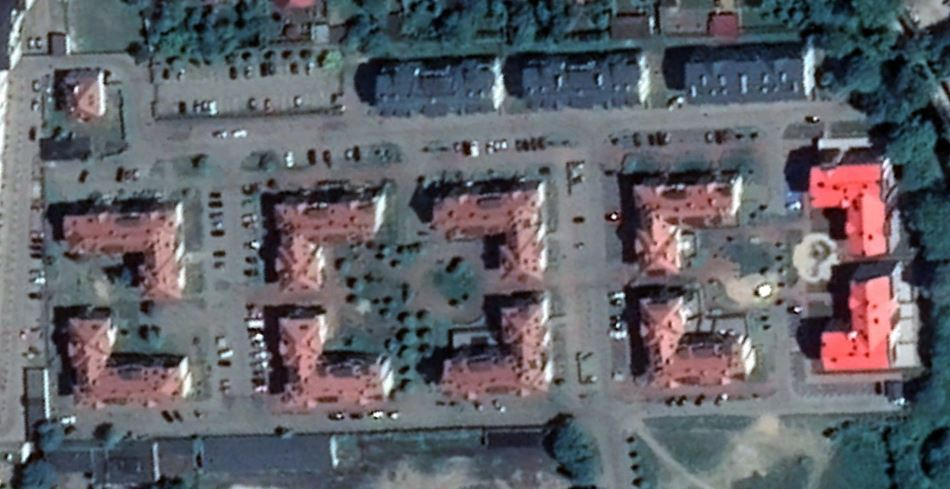block of flats: (52, 191, 194, 307), (423, 173, 557, 290), (425, 286, 561, 400), (261, 182, 393, 296), (627, 280, 762, 388), (617, 161, 747, 272), (59, 314, 196, 415), (265, 307, 402, 408), (799, 148, 913, 265), (802, 258, 907, 377), (367, 48, 509, 121), (676, 43, 822, 113), (517, 43, 650, 118), (55, 67, 111, 124)
